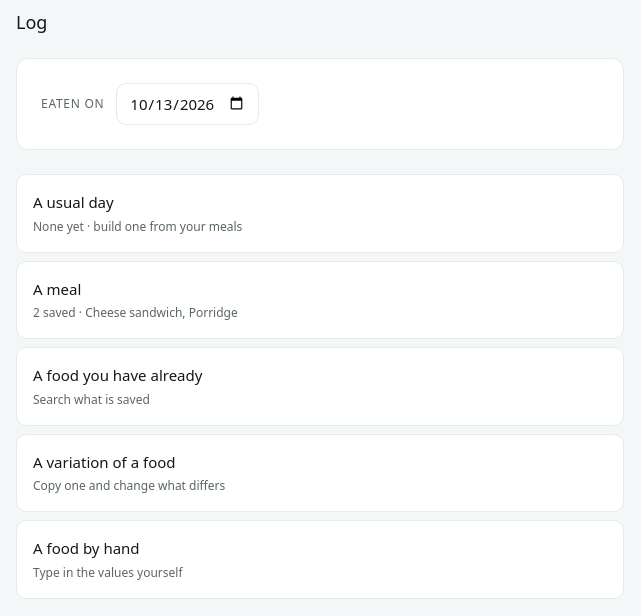
Test: LogView › requires a second tap before removing a saved meal
Click the button "A meal 2 saved · Cheese sandwich, Porridge" at (57, 289), box [16,261,624,339]
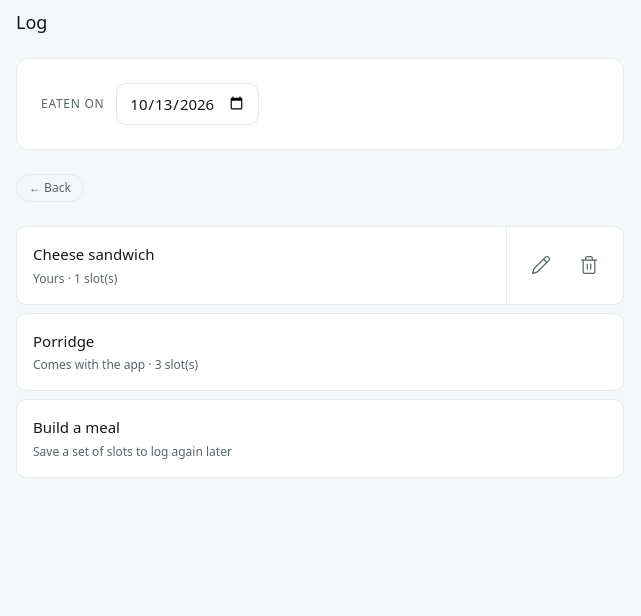
Click the button named "Remove Cheese sandwich" at (589, 265), box [567,243,611,287]
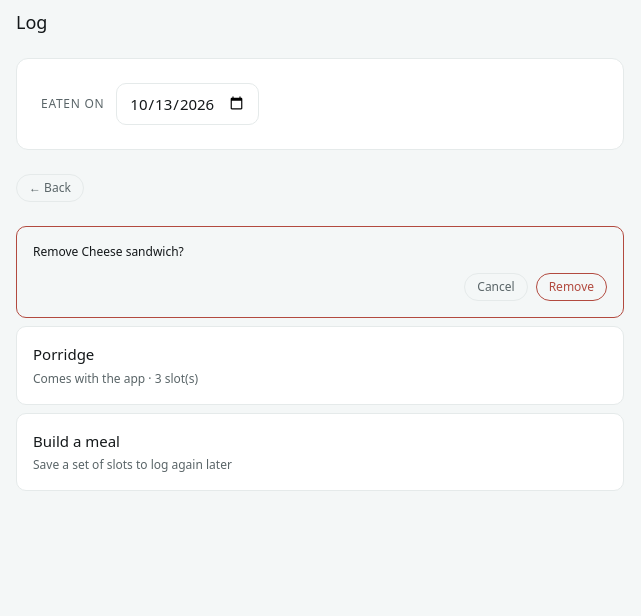
Result: the text "Remove Cheese sandwich?" is shown at [33,243,184,260]
Click the button "Cancel" at (496, 287), box [464,273,528,301]
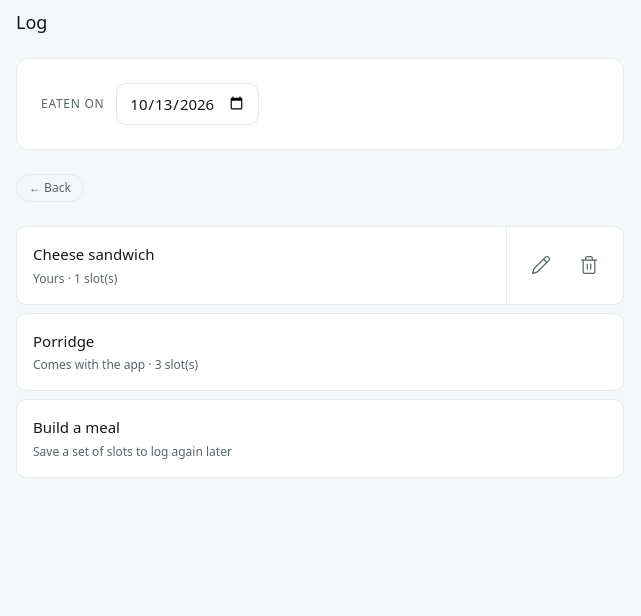
Result: the button "Cheese sandwich Yours · 1 slot(s)" is shown at [17,227,506,304]
